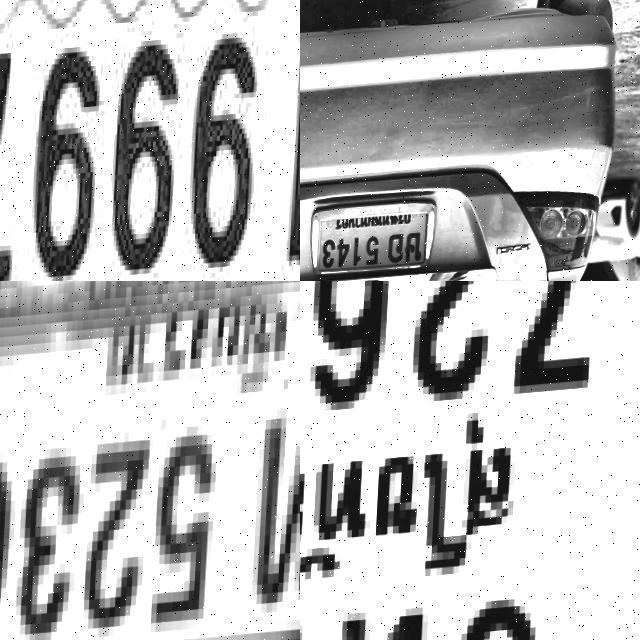license-plate: (300, 281, 640, 640), (0, 281, 300, 640), (0, 0, 300, 281), (304, 191, 444, 281)
